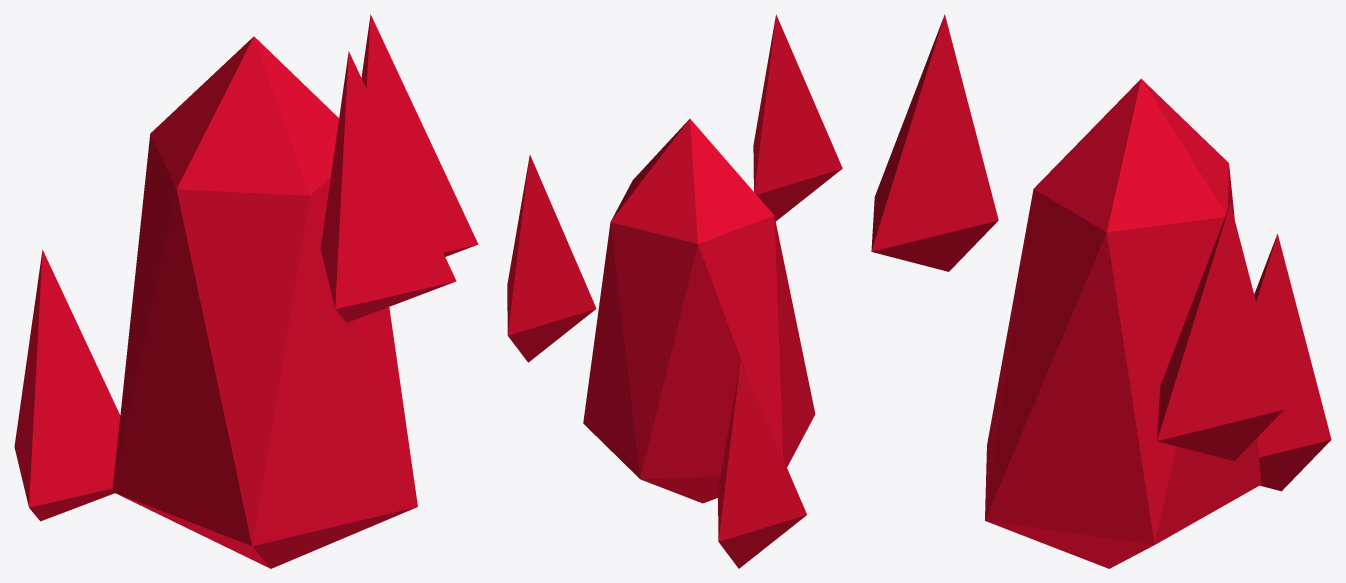
The model's file is chrystal_red.FBX.
3 views of the same model, side by side, from view 1: azimuth 30°, elevation 25°; view 2: azimuth 150°, elevation 25°; view 3: azimuth 270°, elevation 25° (orthographic). The views are drawn at different scales.
Visible parts, largest first — view 1: chrystal_red; view 2: chrystal_red; view 3: chrystal_red.
Boxes of the visible parts, x1,y1,x2,y2 form: chrystal_red: (14, 14, 478, 568); chrystal_red: (507, 14, 842, 568); chrystal_red: (871, 14, 1331, 568).
Size of the model in its own units: 18.7 by 24.7 by 18.71.
